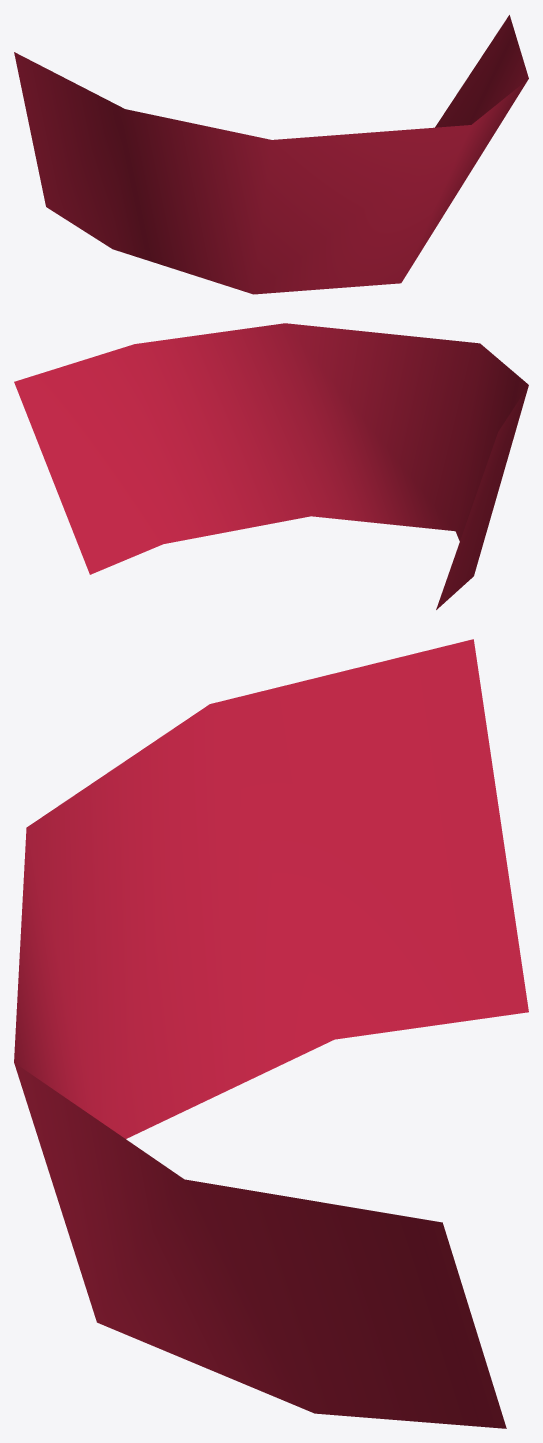
The picture shows the model from 3 angles, top to bottom: view 1: azimuth 30°, elevation 25°; view 2: azimuth 150°, elevation 25°; view 3: azimuth 270°, elevation 25°; orthographic projection. The views are drawn at different scales.
Parts seen in each view (by area): view 1: ef_407; view 2: ef_407; view 3: ef_407.
Part boxes in pixels (x1,y1,x2,y2): ef_407: (14, 15, 528, 294); ef_407: (14, 323, 528, 609); ef_407: (14, 639, 528, 1428).
Size of the model in its own units: 0.787 by 0.3603 by 0.3867.
Materials: 1 (1 with a texture image).
